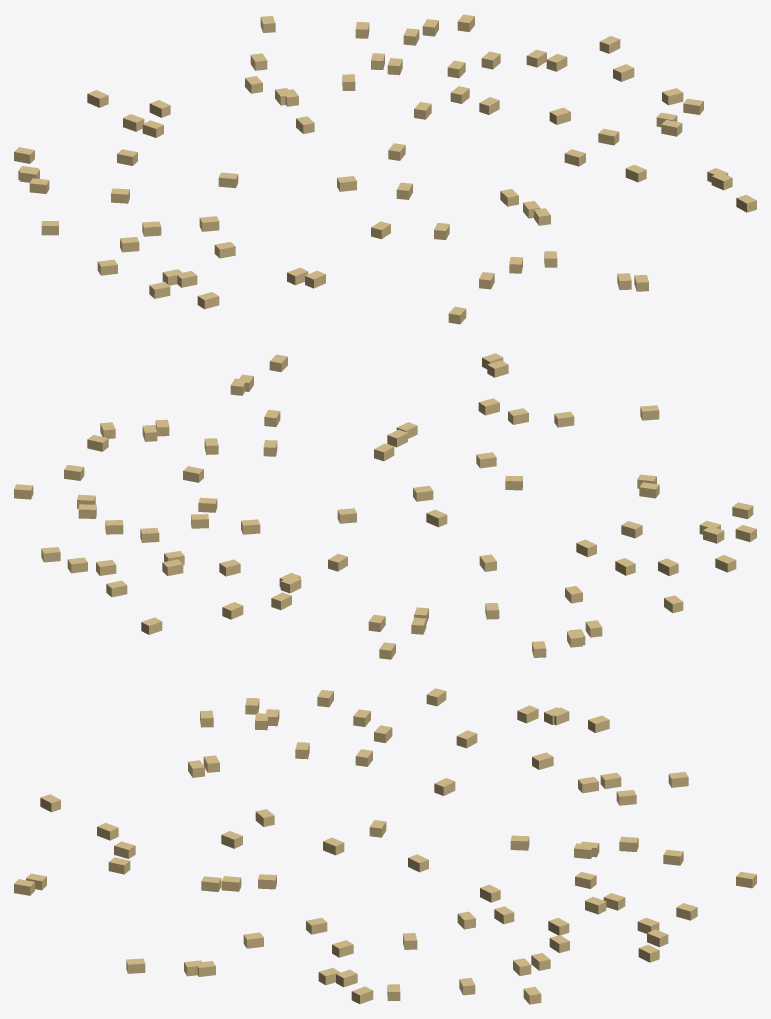
Rendered from grain_spill.fbx.
3 views of the same model, one above another, from view 1: azimuth 30°, elevation 25°; view 2: azimuth 150°, elevation 25°; view 3: azimuth 270°, elevation 25° (orthographic).
Parts seen in each view (by area): view 1: grain_spill; view 2: grain_spill; view 3: grain_spill.
Boxes of the visible parts, left/top/right/bottom form: grain_spill: left=14, top=14, right=756, bottom=324; grain_spill: left=14, top=353, right=756, bottom=659; grain_spill: left=14, top=688, right=756, bottom=1004.
Size of the model in its own units: 0.5789 by 0.008 by 0.5915.
